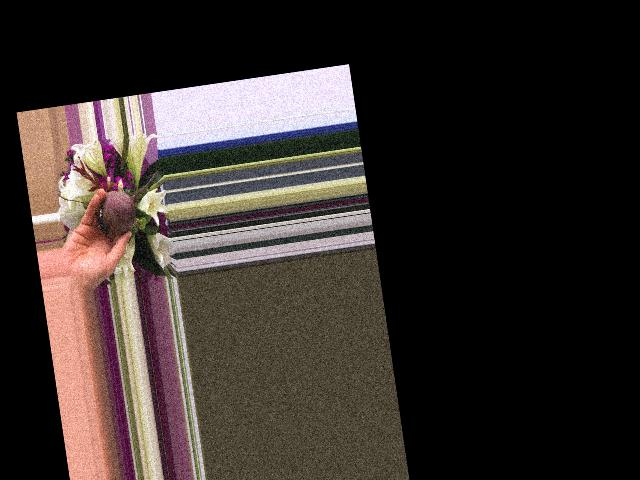beet: (91, 167, 168, 237)
